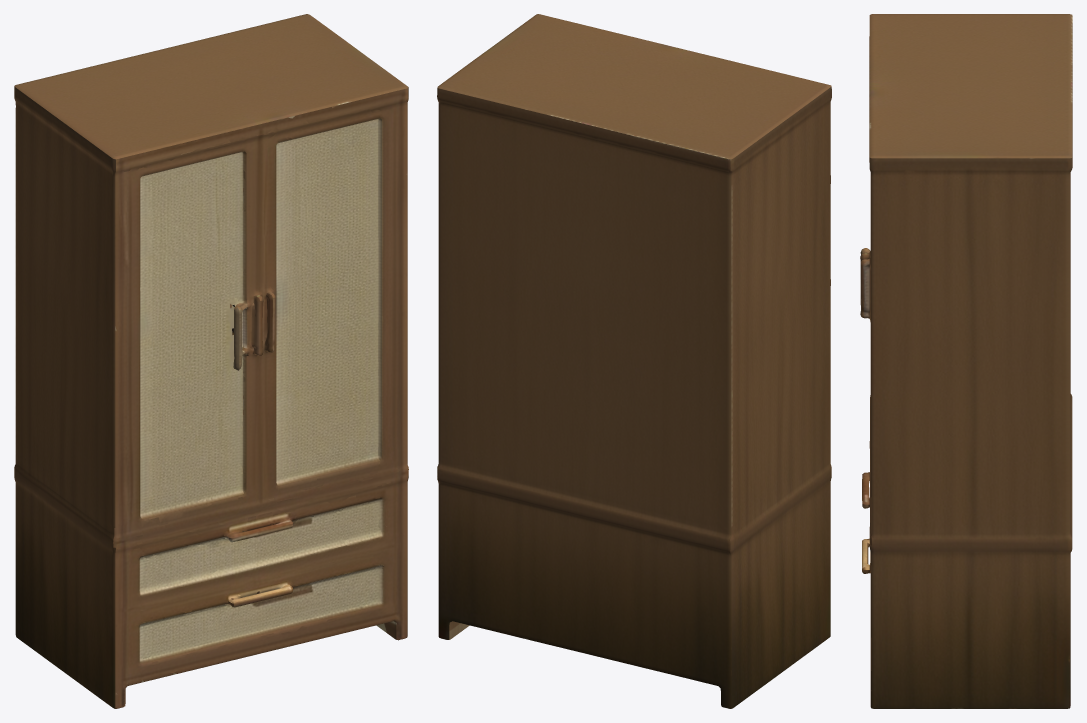
The model's file is wardrobe__wardrobe#2.glb.
The picture shows the model from 3 angles, left to right: view 1: azimuth 30°, elevation 25°; view 2: azimuth 150°, elevation 25°; view 3: azimuth 270°, elevation 25°; orthographic projection.
Parts seen in each view (by area): view 1: tmpxi03_bj3.ply; view 2: tmpxi03_bj3.ply; view 3: tmpxi03_bj3.ply.
Boxes of the visible parts, x1,y1,x2,y2 form: tmpxi03_bj3.ply: (14,14,408,708); tmpxi03_bj3.ply: (437,14,831,708); tmpxi03_bj3.ply: (860,14,1072,708).
Bounding box in the file's own units: 1.12 × 1.99 × 0.6921.
Materials: 1 (1 with a texture image).
